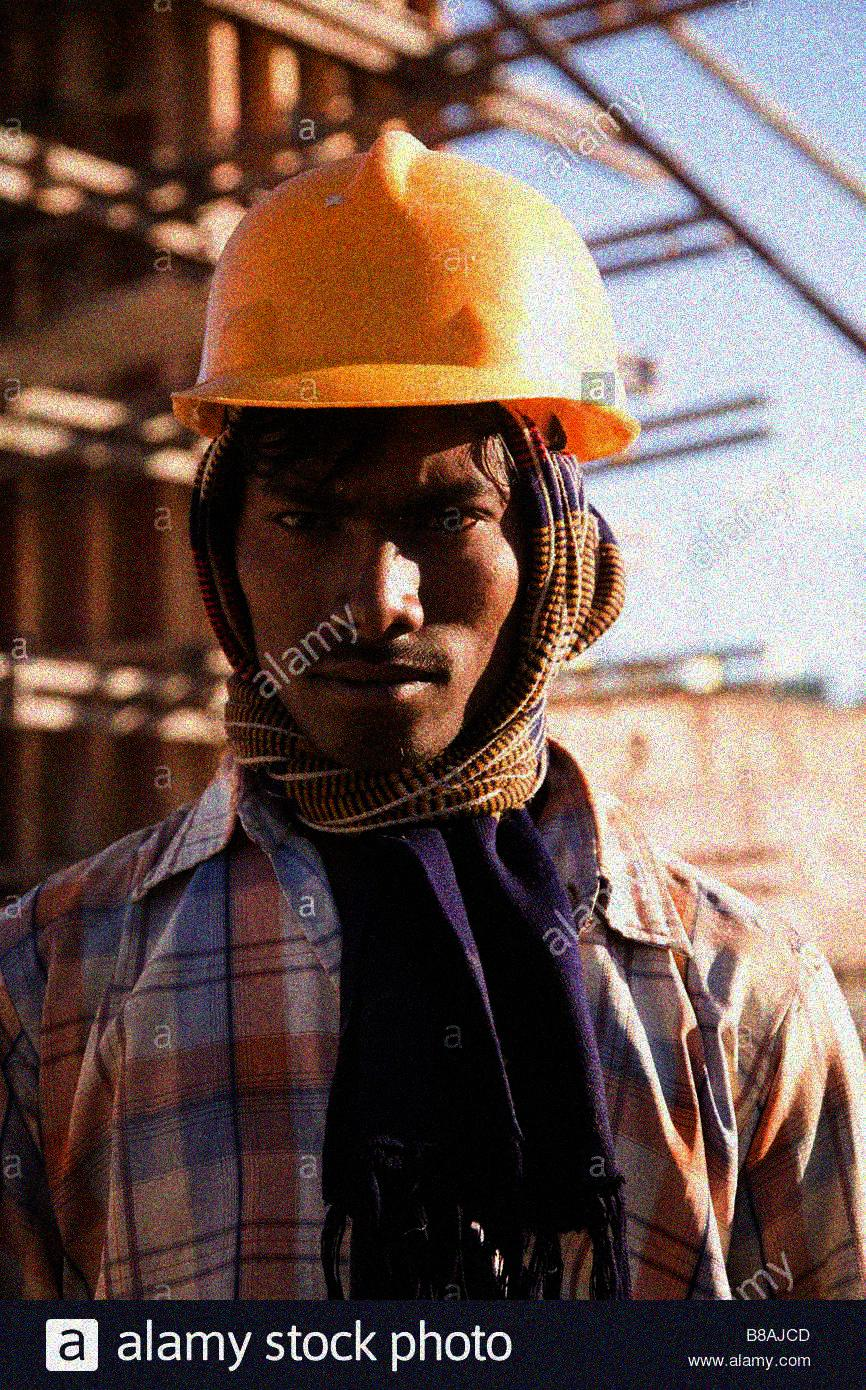helmet: (165, 126, 638, 758)
